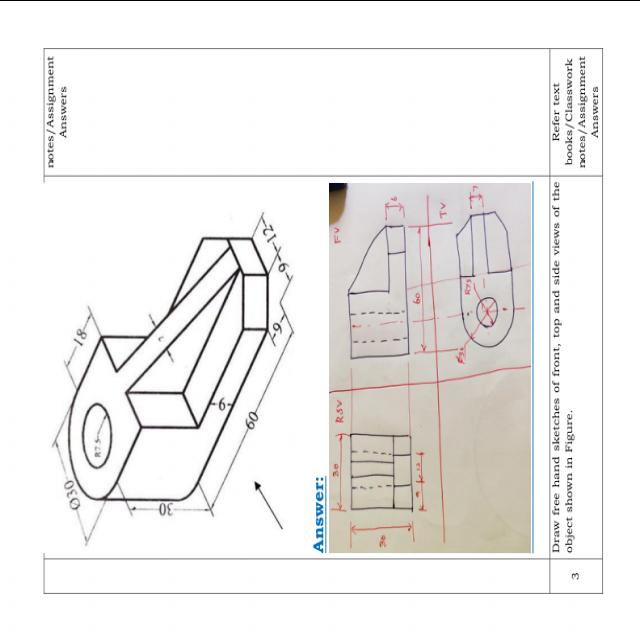Drawings: (49, 202, 304, 546), (331, 394, 428, 548), (450, 180, 528, 366), (346, 218, 412, 364)
